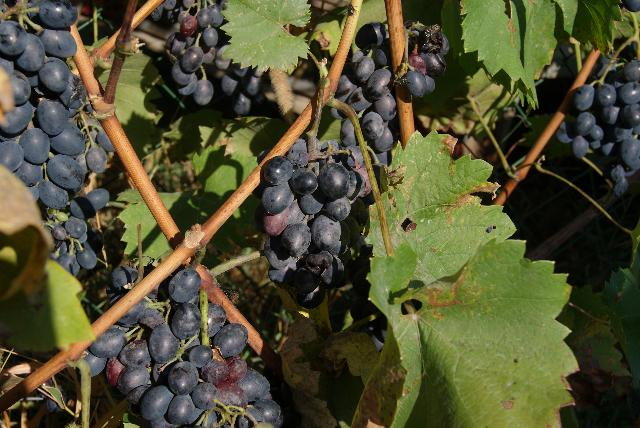grapes: (84, 324, 282, 428), (254, 154, 351, 310), (335, 21, 450, 152), (556, 60, 640, 196)
